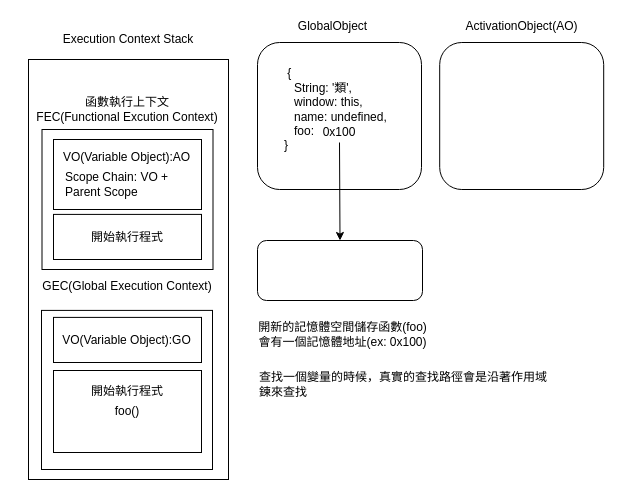
Some shapes in this 622 by 497 pixel diagram are drawn without their labels. The box of each missing label's shape, as (x1, y1, x2, y2) in pixels:
[[scope]]: parent scope 函數的執行體(程式塊): (256, 240, 422, 300)
{ Number: '類', window: this, num: undefined, m: undefined, n: undefined }: (439, 42, 604, 190)
